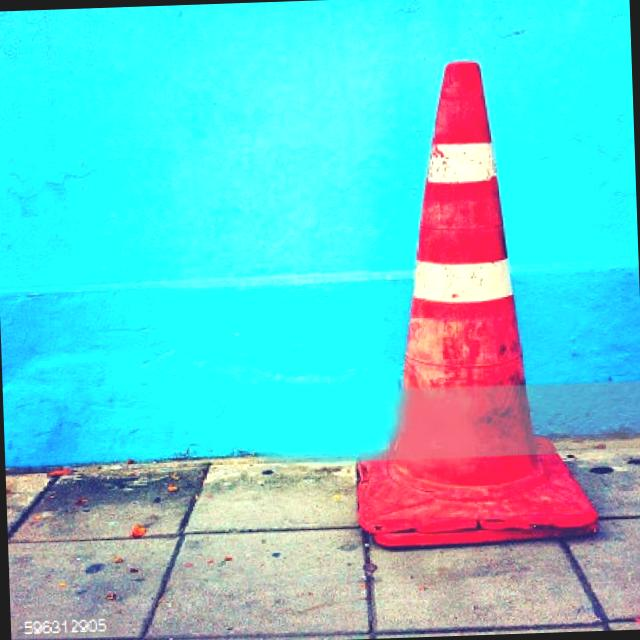cone: (304, 19, 614, 538)
